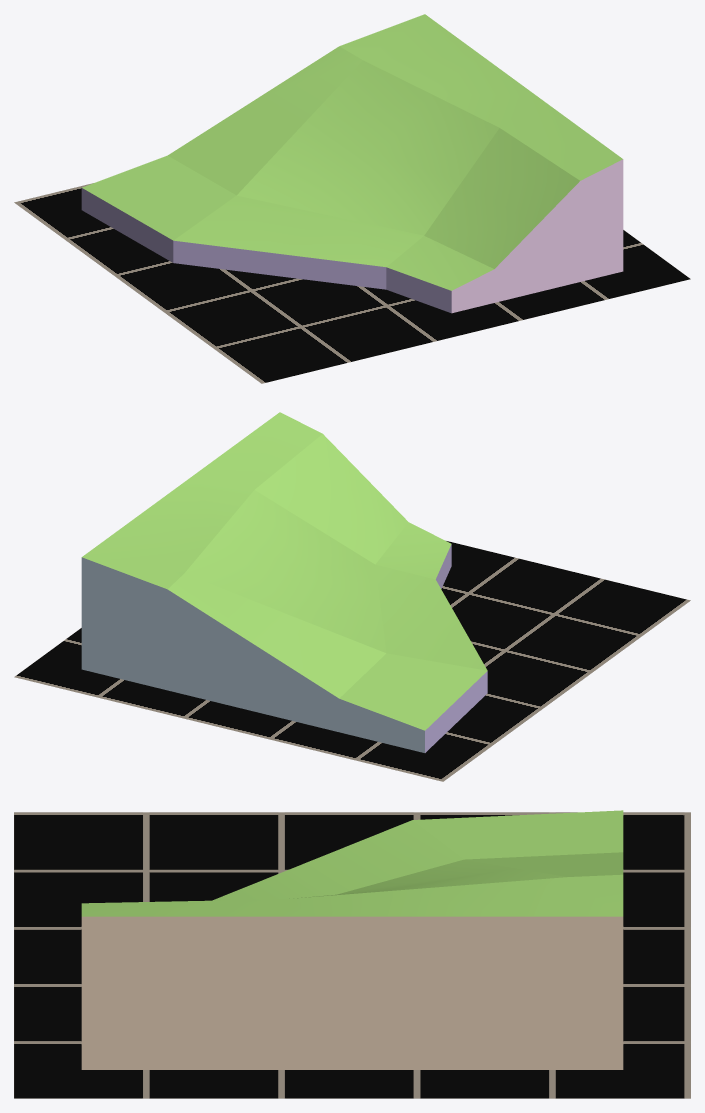
The model's file is Grass_Hill_Grade_Transition_Straight_Rear_3x4.glb.
3 views of the same model, one above another, from view 1: azimuth 30°, elevation 25°; view 2: azimuth 150°, elevation 25°; view 3: azimuth 270°, elevation 25° (orthographic). The views are drawn at different scales.
Parts seen in each view (by area): view 1: Grass_Hill_Grade_Transition_Straight_Rear_3x4, Floor; view 2: Grass_Hill_Grade_Transition_Straight_Rear_3x4, Floor; view 3: Grass_Hill_Grade_Transition_Straight_Rear_3x4, Floor.
Boxes of the visible parts, x1,y1,x2,y2 form: Grass_Hill_Grade_Transition_Straight_Rear_3x4: (81, 14, 623, 313); Floor: (14, 183, 690, 383); Grass_Hill_Grade_Transition_Straight_Rear_3x4: (81, 412, 487, 752); Floor: (14, 541, 690, 781); Grass_Hill_Grade_Transition_Straight_Rear_3x4: (81, 810, 623, 1069); Floor: (14, 812, 690, 1098).
Bounding box in the file's own units: 500 × 125 × 500.
7 materials, 1 textured.
